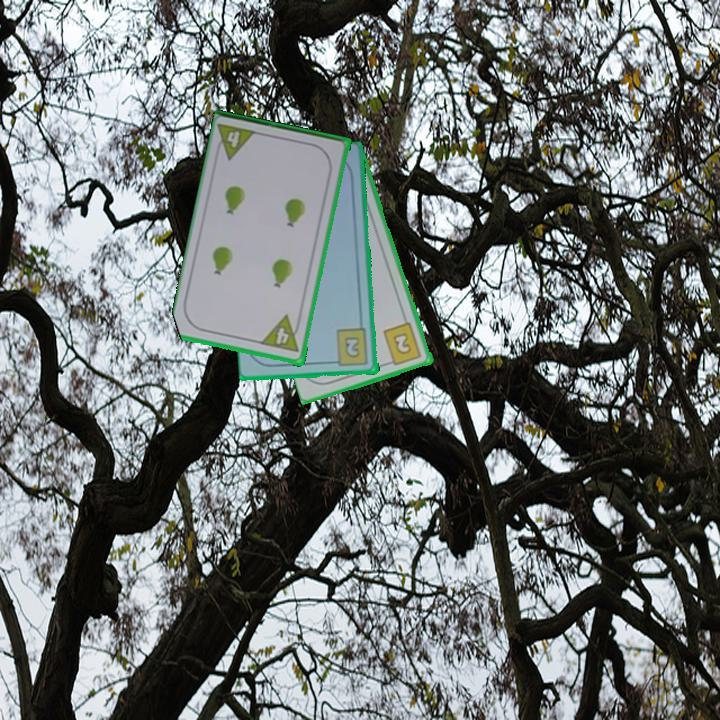2b: (380, 319, 425, 368), (329, 326, 371, 369)
4p: (259, 313, 293, 349), (224, 128, 243, 151)
